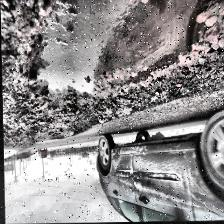pothole: (0, 1, 224, 130)
